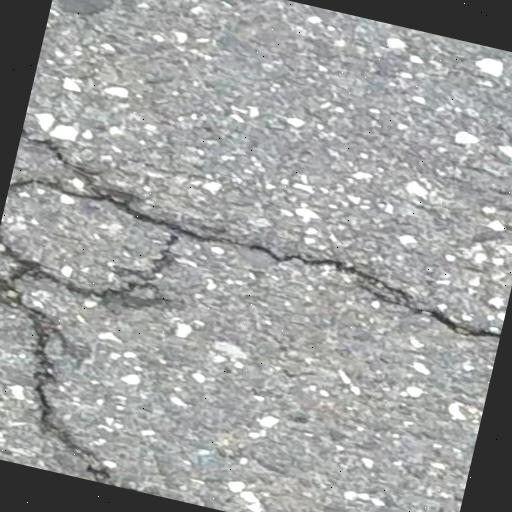spalling: (20, 118, 501, 346), (0, 268, 118, 482), (0, 175, 186, 306)
